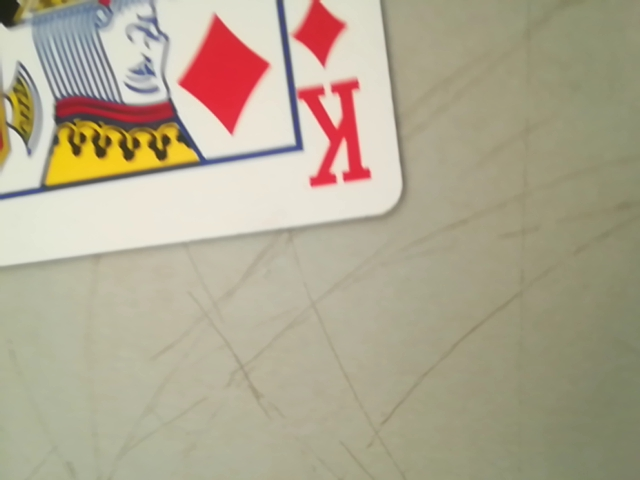fk k: (290, 1, 372, 189), (307, 162, 376, 200)
